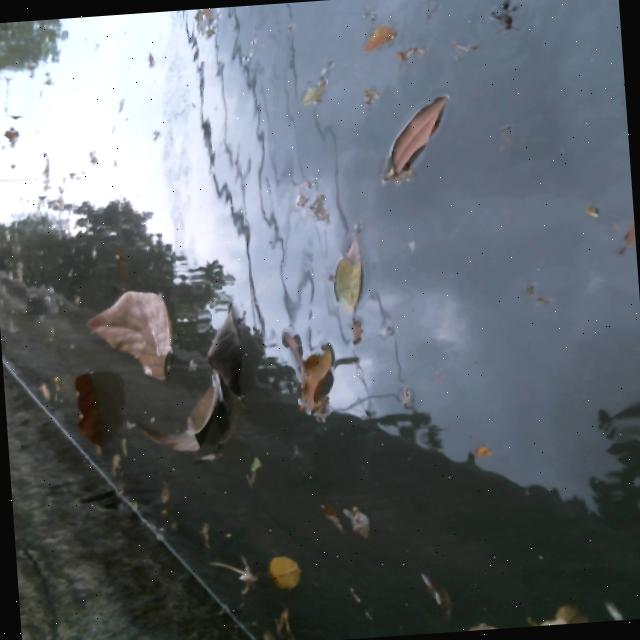Big-leaf: (122, 302, 254, 466), (80, 270, 182, 392), (272, 328, 353, 435), (66, 368, 110, 474)
Small-leaf: (368, 67, 467, 198), (310, 213, 379, 330), (298, 480, 386, 553), (243, 534, 318, 600), (338, 13, 407, 55), (241, 600, 307, 640), (36, 375, 55, 403)
